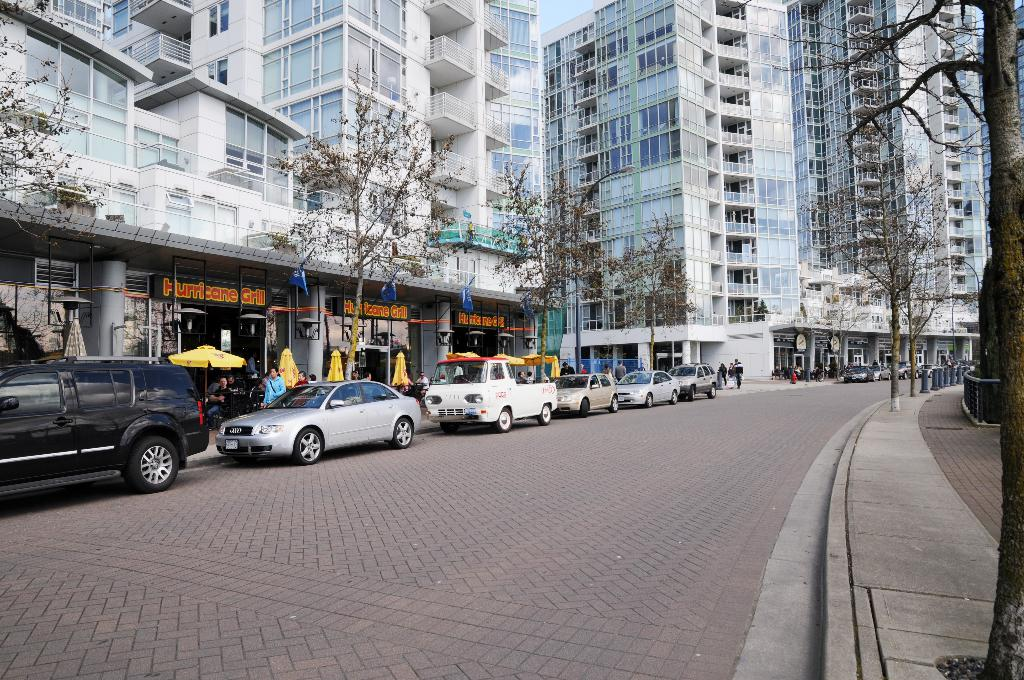Car: (0, 356, 207, 490), (215, 379, 423, 466), (551, 372, 618, 418), (839, 360, 979, 382), (613, 369, 682, 407), (671, 361, 718, 396)
